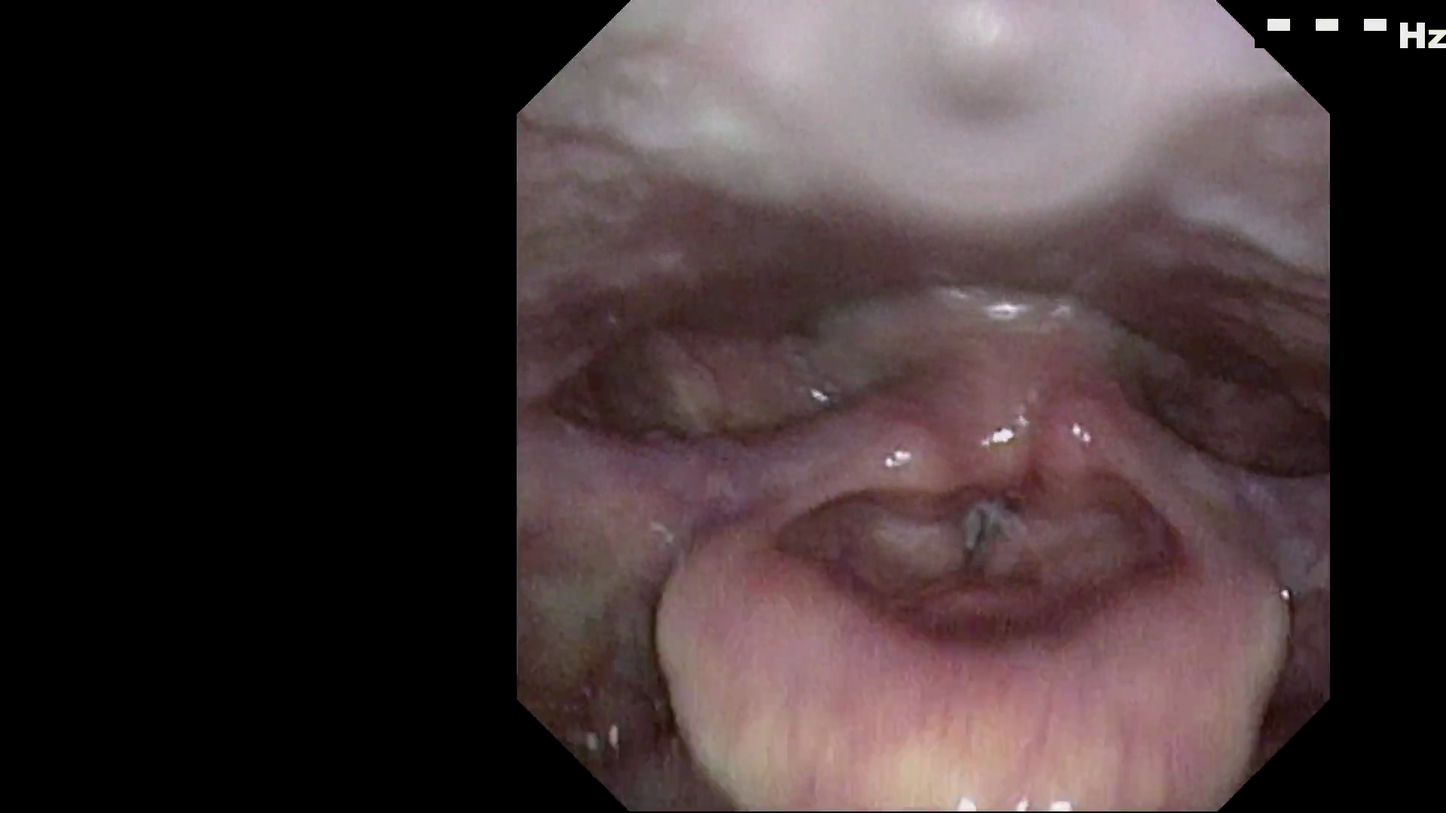epiglottis: (671, 572, 1256, 790)
trachea: (945, 492, 1028, 582)
